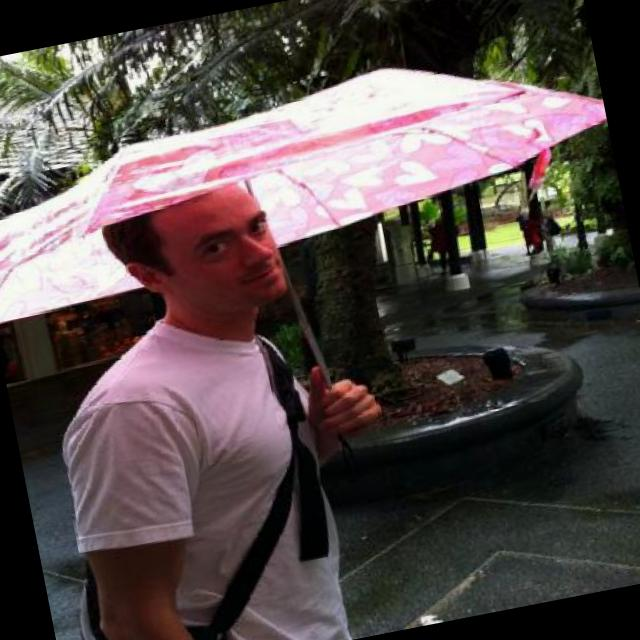Person: (9, 163, 433, 640), (536, 197, 568, 251), (522, 209, 550, 256)
